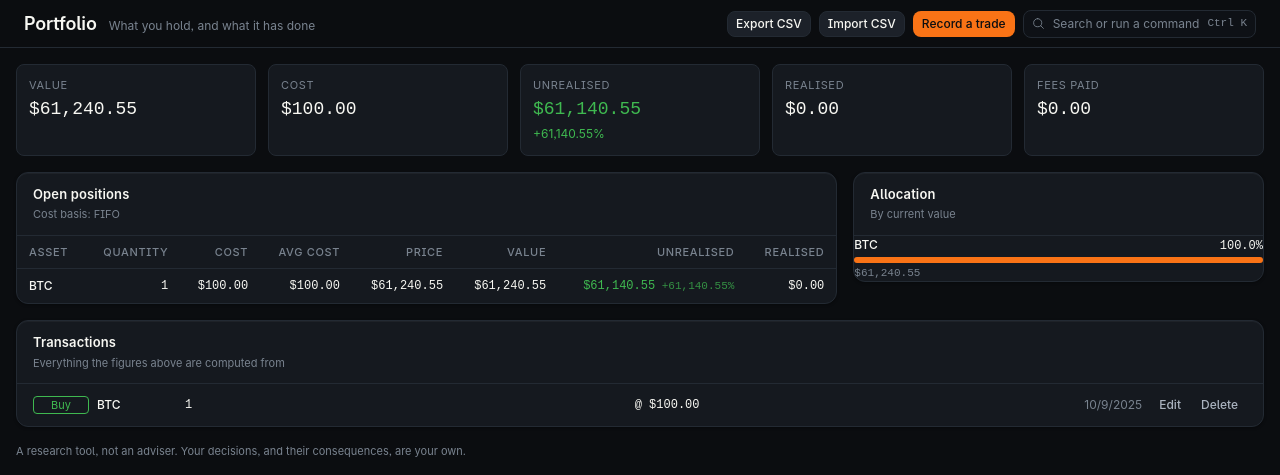
Test case: portfolio › deletes a transaction and the position goes with it
The width and height of the screenshot is (1280, 475).
Click the button with aria-label "delete buy of BTC": (1220, 405) [1192,392,1247,418]
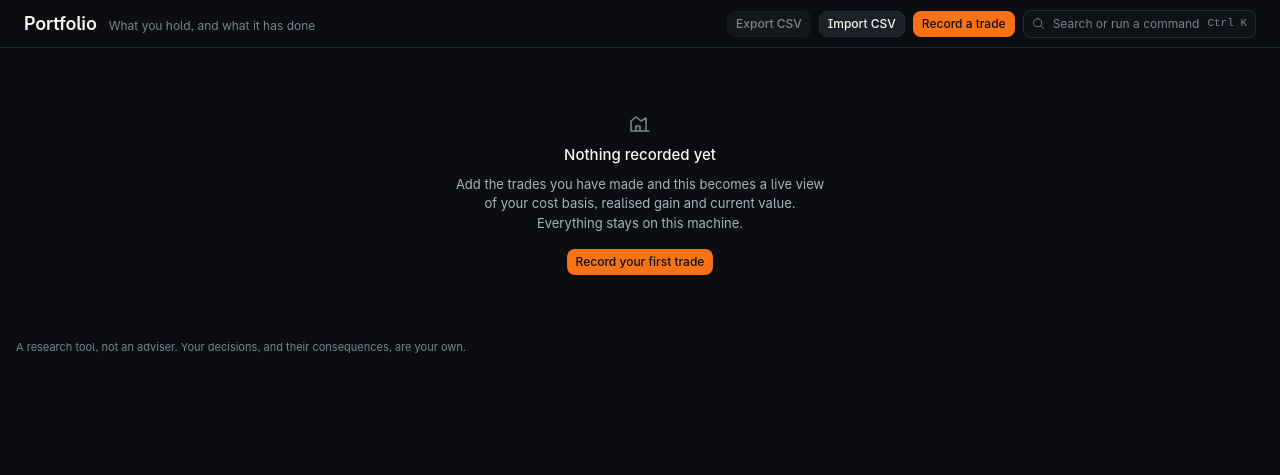
Expected: the text "Nothing recorded yet" is shown, [564,144,716,166]
